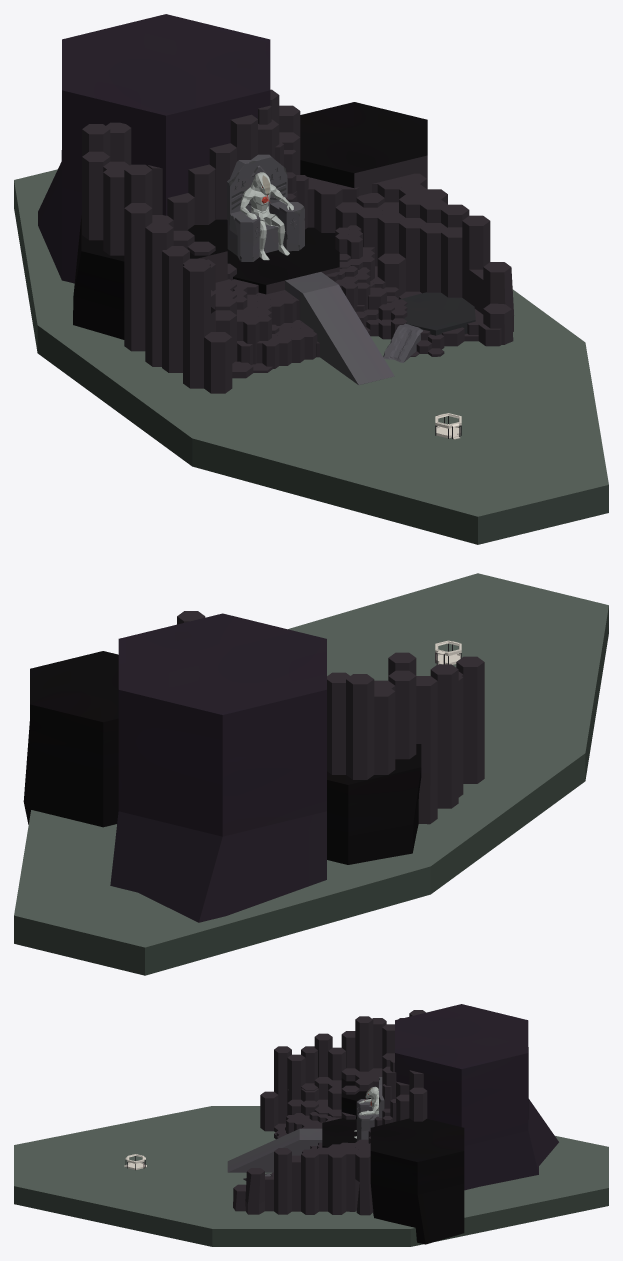
Rendered from terrain1.0.gltf.
The picture shows the model from 3 angles, top to bottom: view 1: azimuth 30°, elevation 25°; view 2: azimuth 150°, elevation 25°; view 3: azimuth 270°, elevation 25°; orthographic projection. The views are drawn at different scales.
Parts seen in each view (by area): view 1: starting room.001; view 2: starting room.001; view 3: starting room.001.
Boxes of the visible parts, left/top/right/bottom form: starting room.001: left=14, top=14, right=608, bottom=544; starting room.001: left=14, top=573, right=608, bottom=975; starting room.001: left=14, top=1004, right=608, bottom=1246.
Size of the model in its own units: 162 by 85.54 by 330.
1 material, 1 textured.
